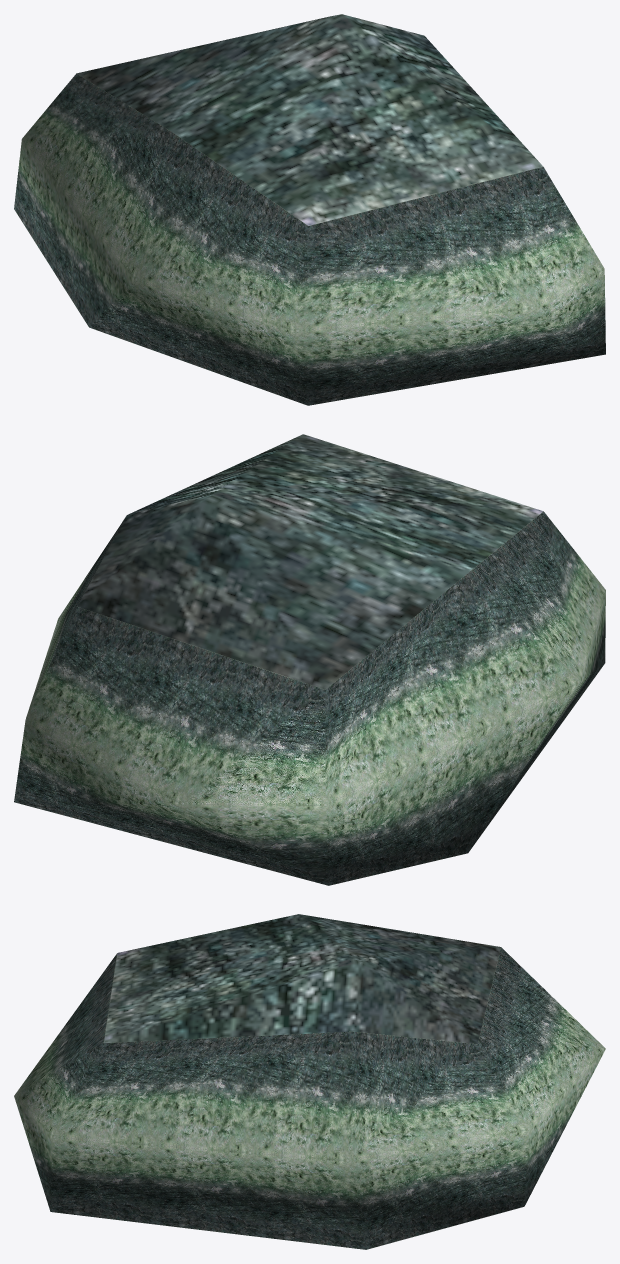
The model's file is rock_beach_dark_lg_l2.fbx.
3 views of the same model, one above another, from view 1: azimuth 30°, elevation 25°; view 2: azimuth 150°, elevation 25°; view 3: azimuth 270°, elevation 25° (orthographic). The views are drawn at different scales.
Parts seen in each view (by area): view 1: mesh_node; view 2: mesh_node; view 3: mesh_node.
Part boxes in pixels (box(x1,y1,x2,y2)): mesh_node: box(14, 14, 605, 405); mesh_node: box(14, 434, 605, 885); mesh_node: box(14, 914, 605, 1249).
Bounding box in the file's own units: 10.73 × 6.53 × 14.83.
